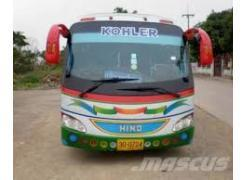bus: (48, 11, 209, 155)
